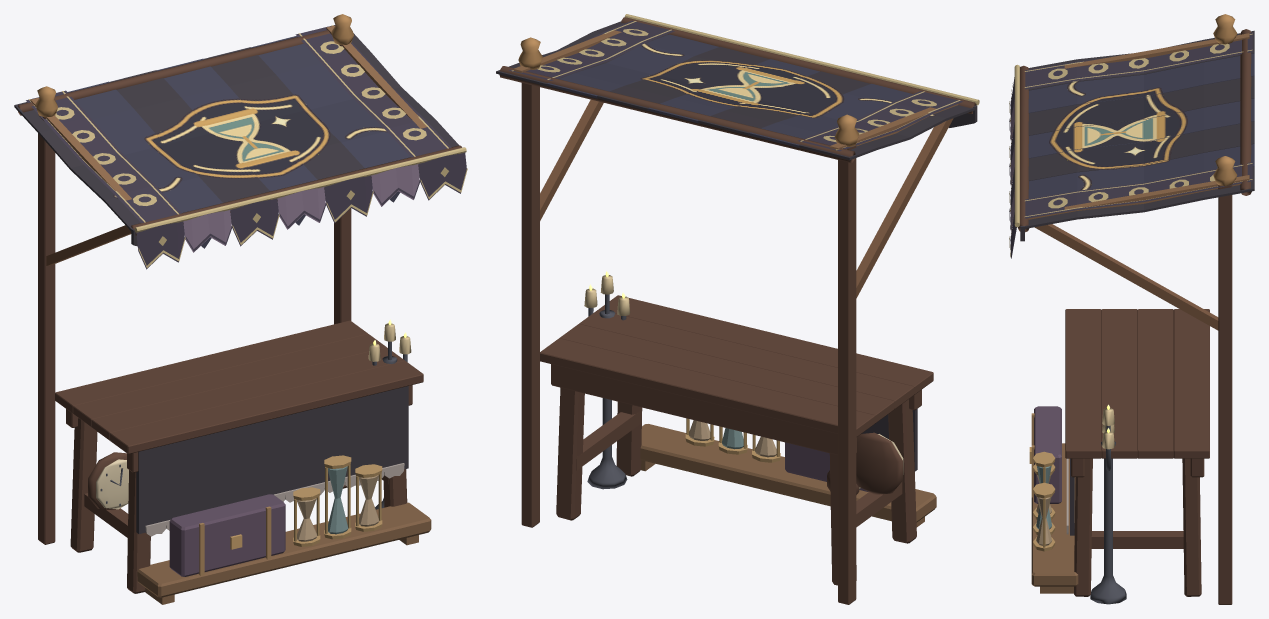
Rendered from stall_reaper.glb.
3 views of the same model, side by side, from view 1: azimuth 30°, elevation 25°; view 2: azimuth 150°, elevation 25°; view 3: azimuth 270°, elevation 25° (orthographic). The views are drawn at different scales.
Parts seen in each view (by area): view 1: stall_reaper; view 2: stall_reaper; view 3: stall_reaper.
Boxes of the visible parts, bbox=[...] form: stall_reaper: bbox=[14, 14, 467, 604]; stall_reaper: bbox=[496, 14, 979, 604]; stall_reaper: bbox=[1009, 14, 1254, 604].
Bounding box in the file's own units: 1.9 × 2.5 × 1.24.
15 materials, 1 textured.
